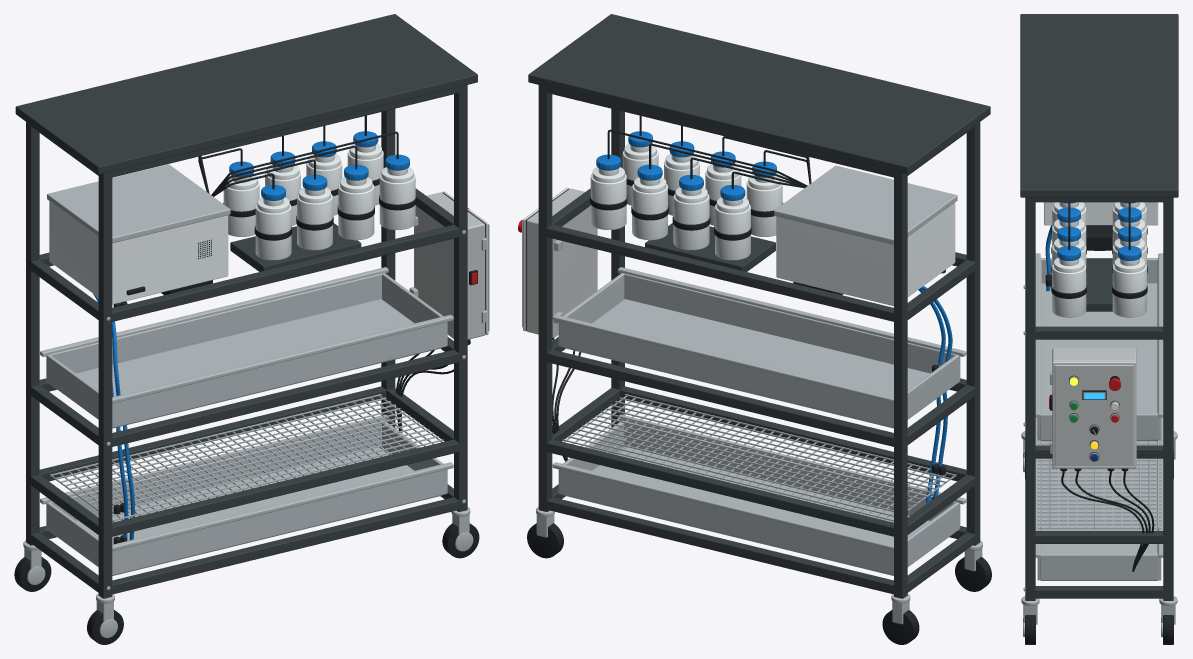
Rendered from hydroponic-rack-control-v2.glb.
3 views of the same model, side by side, from view 1: azimuth 30°, elevation 25°; view 2: azimuth 150°, elevation 25°; view 3: azimuth 270°, elevation 25° (orthographic). The views are drawn at different scales.
Visible parts, largest first — view 1: Frame upright, Growing tray base, Lower reservoir base, Caster hub, Dosing enclosure, Caster tire, CP2 | Enclosure shell, Blue screw cap, LED housing, Blue irrigation hose, CP2 | Door perimeter gasket; view 2: Frame upright, Growing tray base, Lower reservoir base, Dosing enclosure, Caster hub, Caster tire, CP2 | Enclosure shell, Blue screw cap, LED housing, Blue irrigation hose, CP2 | Door perimeter gasket; view 3: Frame upright, Lower reservoir base, Growing tray base, CP2 | Enclosure shell, Dosing enclosure, Caster hub, Blue screw cap, Caster tire, CP2 | Raised door rim, LED housing, CP2 | Door perimeter gasket, Fan housing.
Boxes of the visible parts, x1,y1,x2,y2 form: Frame upright: (15,14,477,598); Growing tray base: (40,267,453,428); Lower reservoir base: (40,414,453,575); Caster hub: (23,164,473,638); Dosing enclosure: (49,144,415,304); Caster tire: (14,115,479,644); CP2 | Enclosure shell: (414,192,485,339); Blue screw cap: (229,131,409,200); LED housing: (230,223,361,271); Blue irrigation hose: (93,293,135,540); CP2 | Door perimeter gasket: (396,192,485,432); Frame upright: (528,14,990,598); Growing tray base: (552,267,966,428); Lower reservoir base: (552,414,966,575); Dosing enclosure: (590,144,955,306); Caster hub: (536,165,982,624); Caster tire: (527,115,991,644); CP2 | Enclosure shell: (526,188,597,337); Blue screw cap: (596,131,776,200); LED housing: (645,223,775,271); Blue irrigation hose: (918,286,952,502); CP2 | Door perimeter gasket: (525,188,581,461); Frame upright: (1020,14,1178,600); Lower reservoir base: (1035,417,1163,580); Growing tray base: (1035,253,1163,440); CP2 | Enclosure shell: (1052,348,1136,466); Dosing enclosure: (1044,202,1158,317); Caster hub: (1021,285,1177,637); Blue screw cap: (1057,202,1141,260); Caster tire: (1025,202,1173,644); CP2 | Raised door rim: (1052,361,1136,468); LED housing: (1086,258,1112,311); CP2 | Door perimeter gasket: (1050,375,1154,571); Fan housing: (1086,225,1112,250).
Size of the model in its own units: 1.38 by 1.51 by 0.47.
